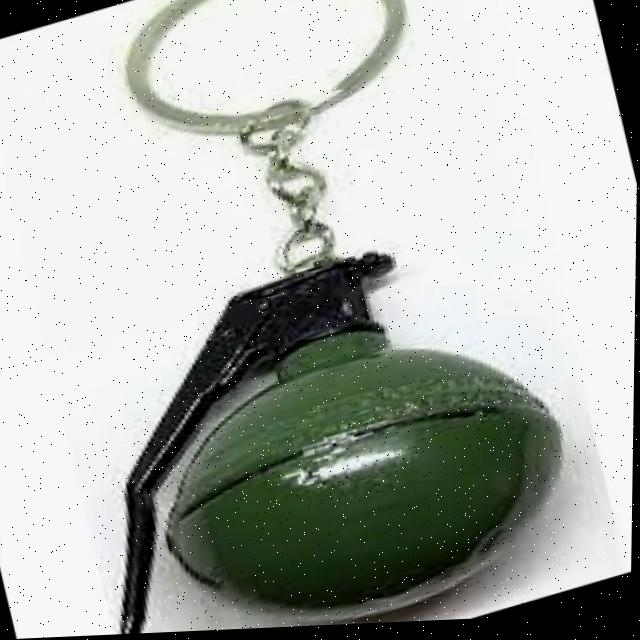grenade: (0, 0, 614, 640)
